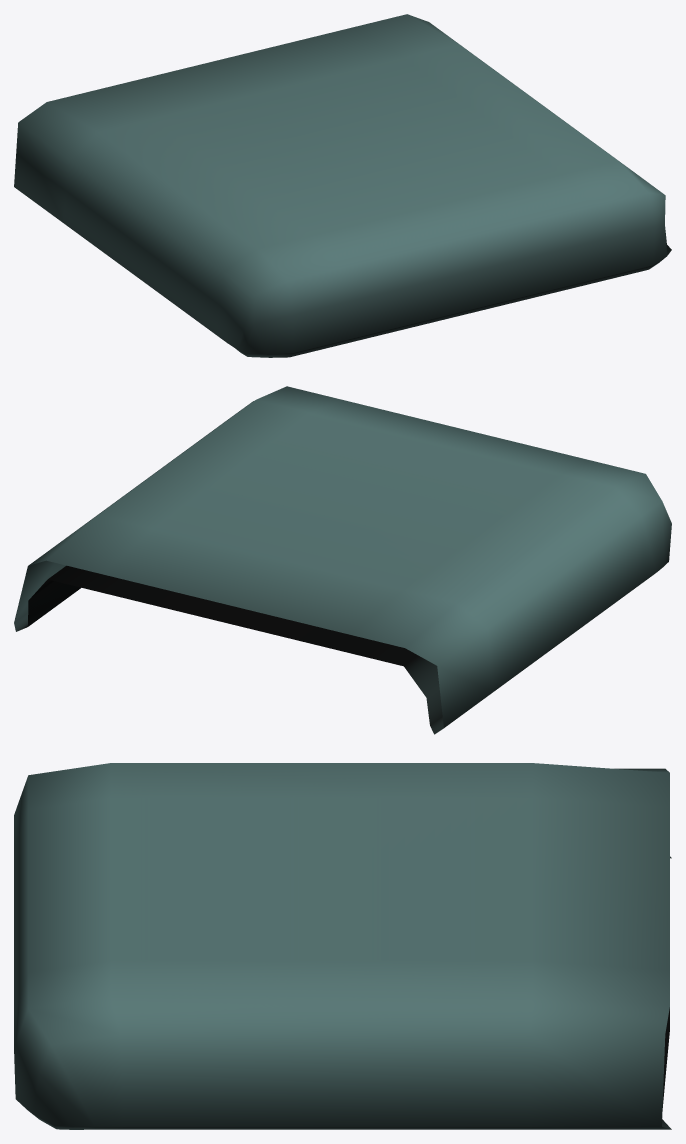
3 views of the same model, one above another, from view 1: azimuth 30°, elevation 25°; view 2: azimuth 150°, elevation 25°; view 3: azimuth 270°, elevation 25° (orthographic). The views are drawn at different scales.
Visible parts, largest first — view 1: color.002; view 2: color.002; view 3: color.002.
Part boxes in pixels (x1=…): color.002: x1=14, y1=14, x2=671, y2=357; color.002: x1=14, y1=386, x2=671, y2=734; color.002: x1=14, y1=763, x2=671, y2=1129.
Bounding box in the file's own units: 0.5 × 0.0957 × 0.4972.
